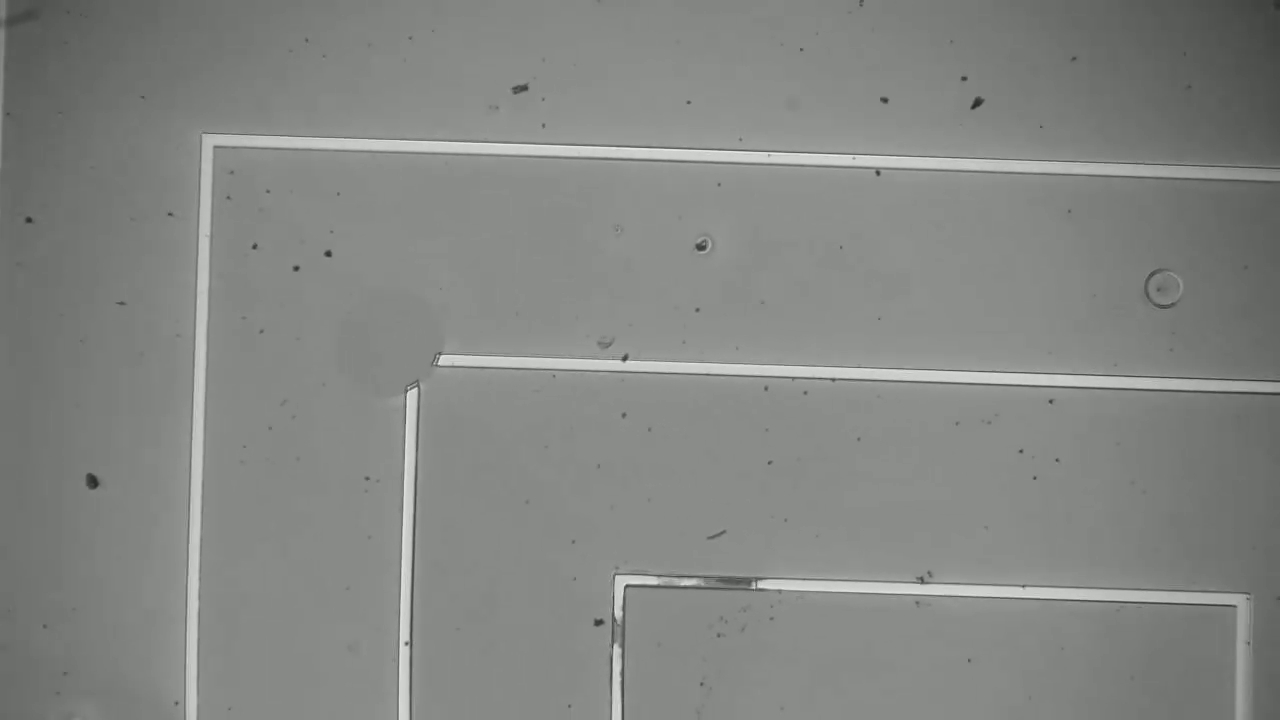gray_line: (682, 563, 780, 601), (604, 598, 642, 670)
open: (376, 322, 465, 421)
